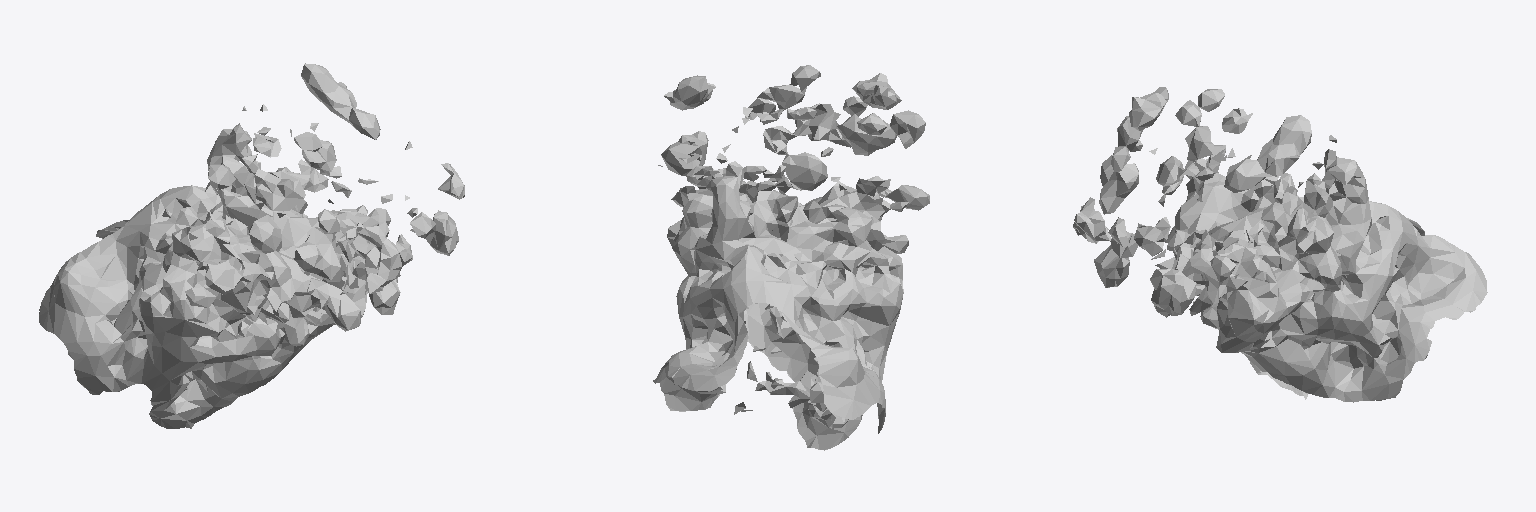
The model's file is echinacea_model.obj.
3 renders of one model, left to right at view 1: azimuth 30°, elevation 25°; view 2: azimuth 150°, elevation 25°; view 3: azimuth 270°, elevation 25°, orthographic.
Size of the model in its own units: 2.29 by 2.42 by 2.69.